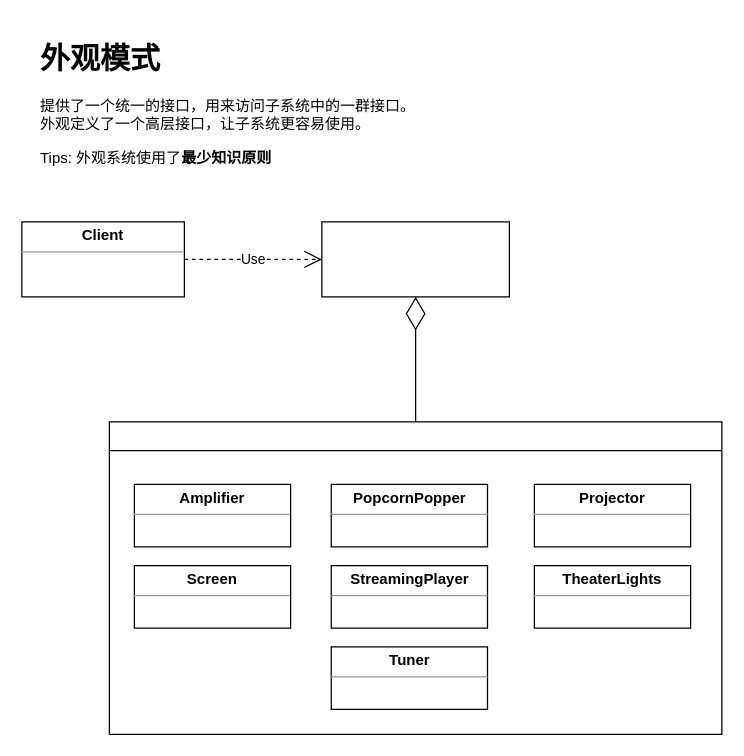
This 744x756 diagram has some shape labels left out. Here are the shapes that lost their labels. From the top down, the box of each, then its label:
(321, 221, 509, 297): HomeTheaterFacade
(108, 421, 722, 734): appliances
